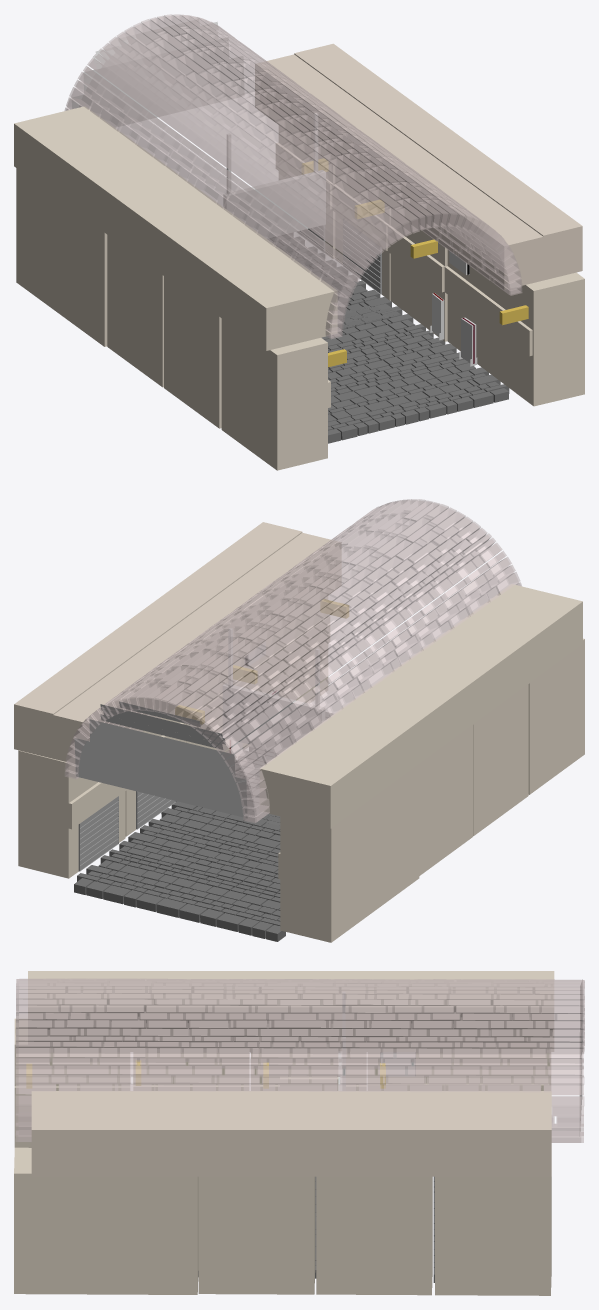
Rendered from shoutengai.fbx.
The picture shows the model from 3 angles, top to bottom: view 1: azimuth 30°, elevation 25°; view 2: azimuth 150°, elevation 25°; view 3: azimuth 270°, elevation 25°; orthographic projection. The views are drawn at different scales.
Visible parts, largest first — view 1: Wall.003, 立方体.005, 立方体, Wall.001, Cube.005, Cube.003, 平面, Cube.001, Cube.002, Cube, 立方体.016, Cube.004 (+5 smaller); view 2: Wall.003, 立方体, 立方体.005, Wall, Cube.001, 平面, Cube.007, Cube.003, Cube.002, Cube, Cube.005, 立方体.016 (+5 smaller); view 3: Wall.003, 立方体.005, 立方体, Cube.005, Cube.007, Cube.004, Cube.006, Cube.001, Cube.003, Cube.002, Cube, CTRL_Hole.003.
Part boxes in pixels (box(x1,y1,x2,y2)): Wall.003: box(64, 14, 522, 339); 立方体.005: box(255, 43, 582, 289); 立方体: box(14, 106, 337, 350); Wall.001: box(321, 303, 509, 443); Cube.005: box(444, 249, 584, 406); Cube.003: box(221, 318, 330, 470); 平面: box(71, 19, 244, 127); Cube.001: box(16, 168, 107, 346); Cube.002: box(164, 276, 221, 428); Cube: box(107, 235, 163, 387); 立方体.016: box(223, 170, 325, 238); Cube.004: box(387, 208, 447, 341); Wall.003: box(64, 499, 521, 823); 立方体: box(259, 584, 582, 828); 立方体.005: box(14, 522, 341, 763); Wall: box(74, 801, 285, 941); Cube.001: box(278, 764, 419, 942); 平面: box(74, 701, 247, 817); Cube.007: box(18, 750, 127, 878); Cube.003: box(528, 638, 584, 794); Cube.002: box(473, 684, 528, 836); Cube: box(419, 725, 472, 875); Cube.005: box(240, 596, 329, 748); 立方体.016: box(223, 684, 324, 751); Wall.003: box(15, 978, 584, 1142); 立方体.005: box(31, 1091, 551, 1176); 立方体: box(28, 971, 554, 1051); Cube.005: box(14, 1147, 198, 1294); Cube.007: box(280, 1077, 551, 1295); Cube.004: box(198, 1176, 315, 1294); Cube.006: box(316, 1176, 432, 1295); Cube.001: box(368, 1052, 550, 1090); Cube.003: box(14, 1018, 129, 1147); Cube.002: box(133, 1052, 248, 1090); Cube: box(251, 1052, 366, 1090); CTRL_Hole.003: box(380, 1052, 415, 1076).
Bounding box in the file's own units: 1301 × 896 × 1938.
